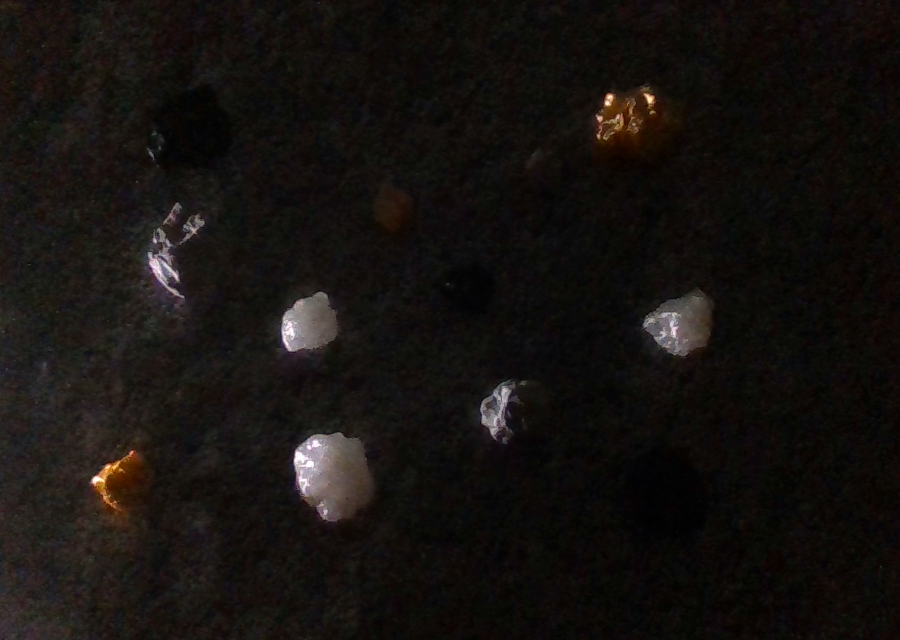anorthosite: (294, 432, 376, 522), (641, 288, 717, 357), (279, 291, 341, 355)
basalt: (621, 443, 710, 538), (145, 84, 235, 174), (436, 260, 496, 315)
metal: (595, 82, 684, 163), (94, 451, 157, 511), (371, 184, 416, 232)
regolith: (147, 198, 236, 301), (478, 376, 553, 445), (522, 146, 563, 193)
